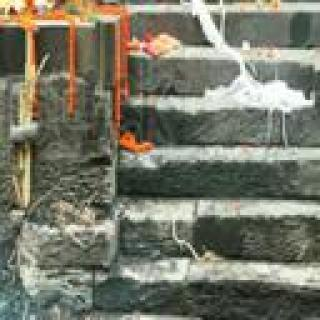fire: (0, 0, 36, 11)
